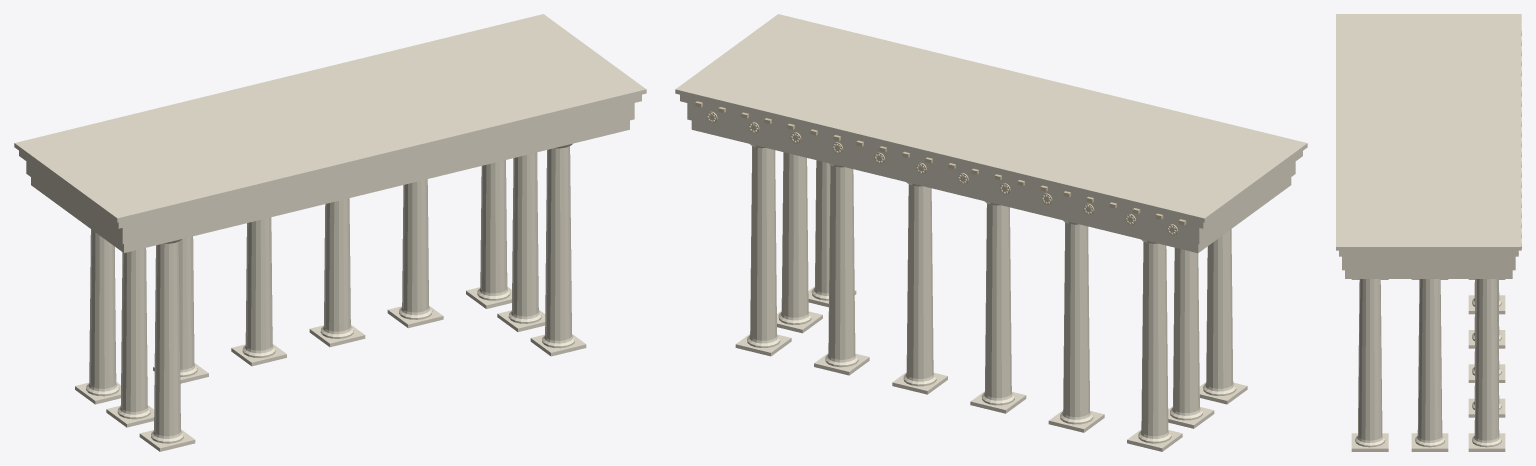
File: KOL_T1_TOWN_HALL__03_Portico.fbx
3 renders of one model, left to right at view 1: azimuth 30°, elevation 25°; view 2: azimuth 150°, elevation 25°; view 3: azimuth 270°, elevation 25°, orthographic. The views are drawn at different scales.
Parts seen in each view (by area): view 1: KOL_T1_TOWN_HALL__03_Portico__KOL_T1_HeritageWhite; view 2: KOL_T1_TOWN_HALL__03_Portico__KOL_T1_HeritageWhite, KOL_T1_TOWN_HALL__03_Portico__KOL_T1_HeritageCream; view 3: KOL_T1_TOWN_HALL__03_Portico__KOL_T1_HeritageWhite.
Part boxes in pixels (box(x1,y1,x2,y2)): KOL_T1_TOWN_HALL__03_Portico__KOL_T1_HeritageWhite: box(14, 14, 646, 451); KOL_T1_TOWN_HALL__03_Portico__KOL_T1_HeritageWhite: box(675, 14, 1307, 451); KOL_T1_TOWN_HALL__03_Portico__KOL_T1_HeritageCream: box(695, 101, 1186, 235); KOL_T1_TOWN_HALL__03_Portico__KOL_T1_HeritageWhite: box(1336, 14, 1521, 451).
Size of the model in its own units: 92 by 41.95 by 31.05.
